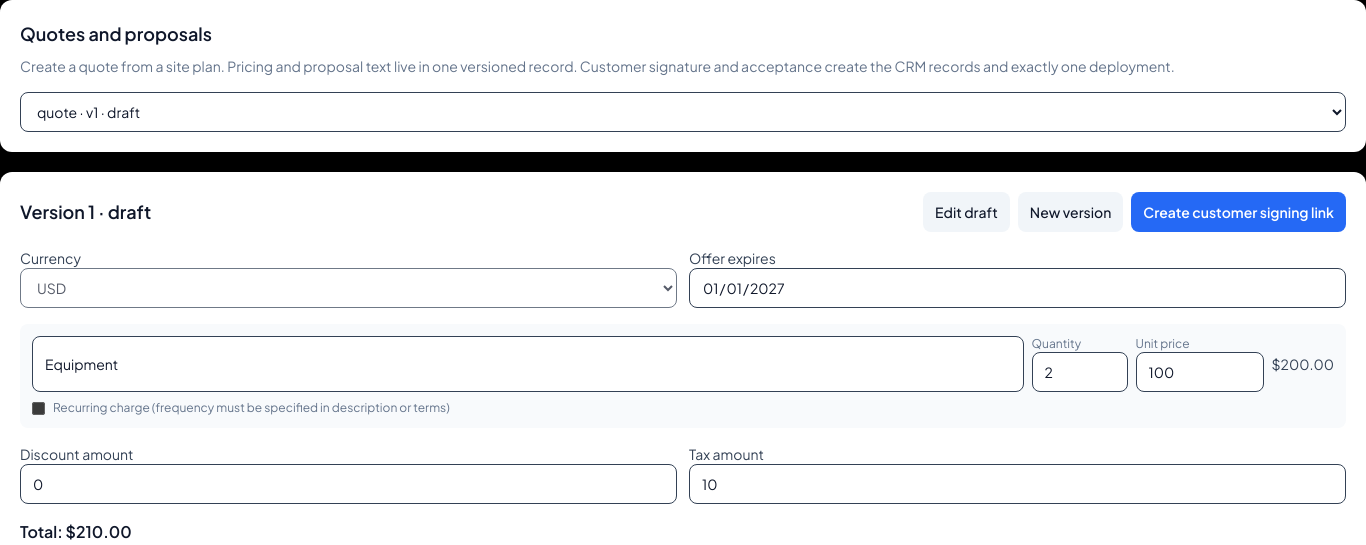
quote and deployment controls › prefills catalog product price when adding a line
Click the button "Edit draft" at (966, 212), box [923,192,1010,232]
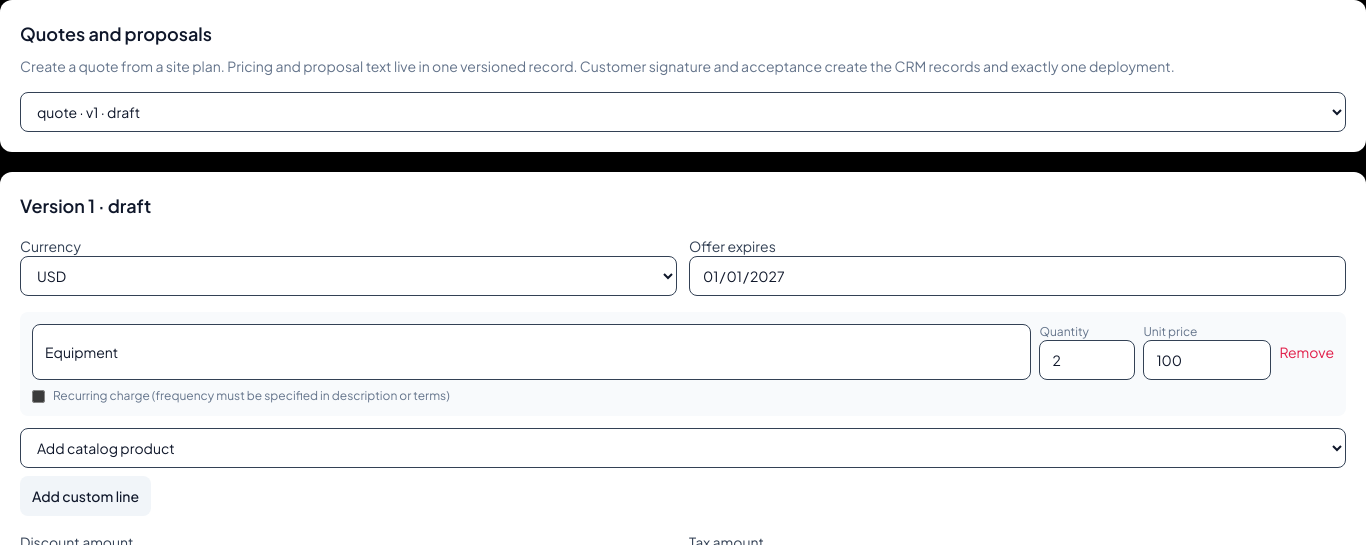
Select "Sensor" in the dropdown named "Add catalog product" at (683, 448), box [20,428,1346,468]
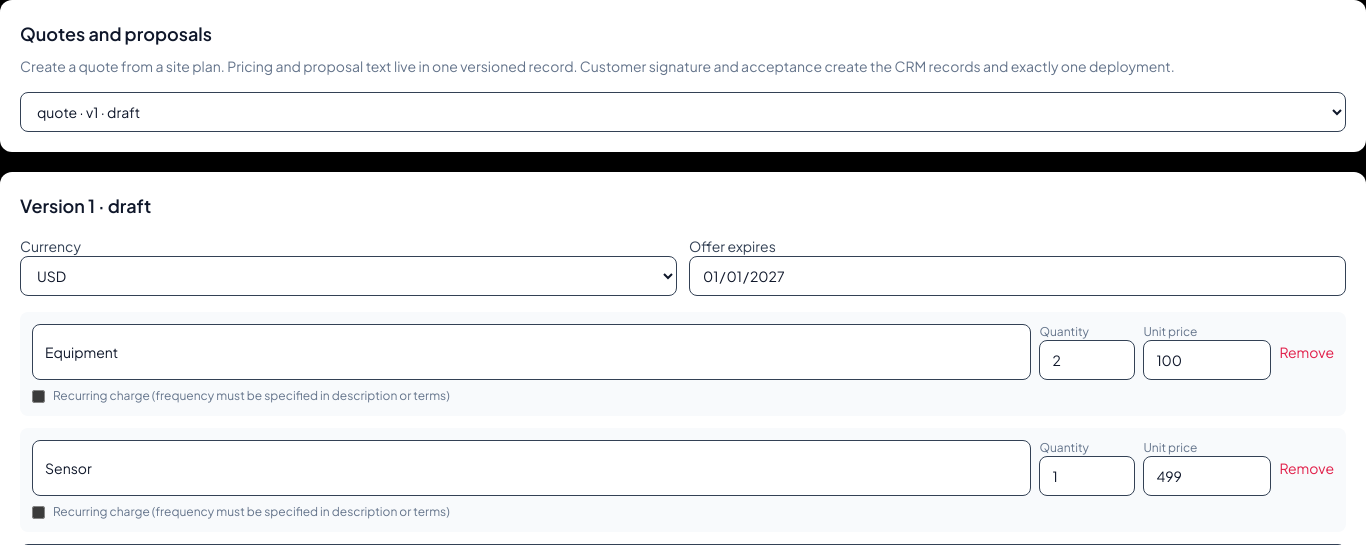
Expected: the number field named "Unit price 2" holds "499", [1143,456,1271,496]
